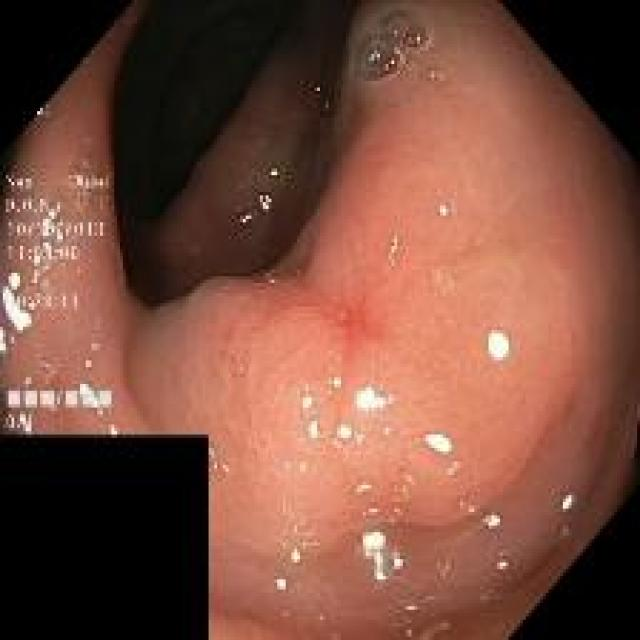Polyps: (120, 81, 568, 551)
